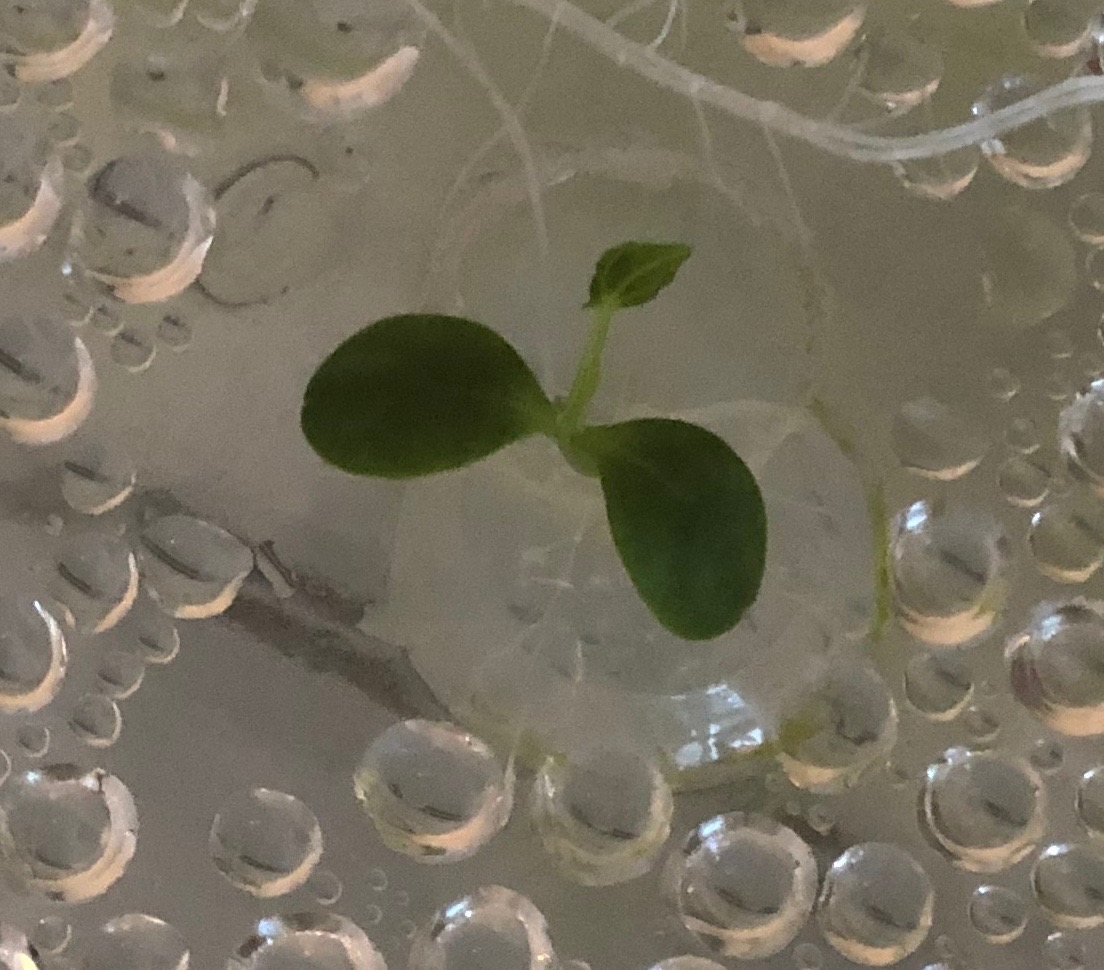lil_plant: (290, 178, 790, 638)
